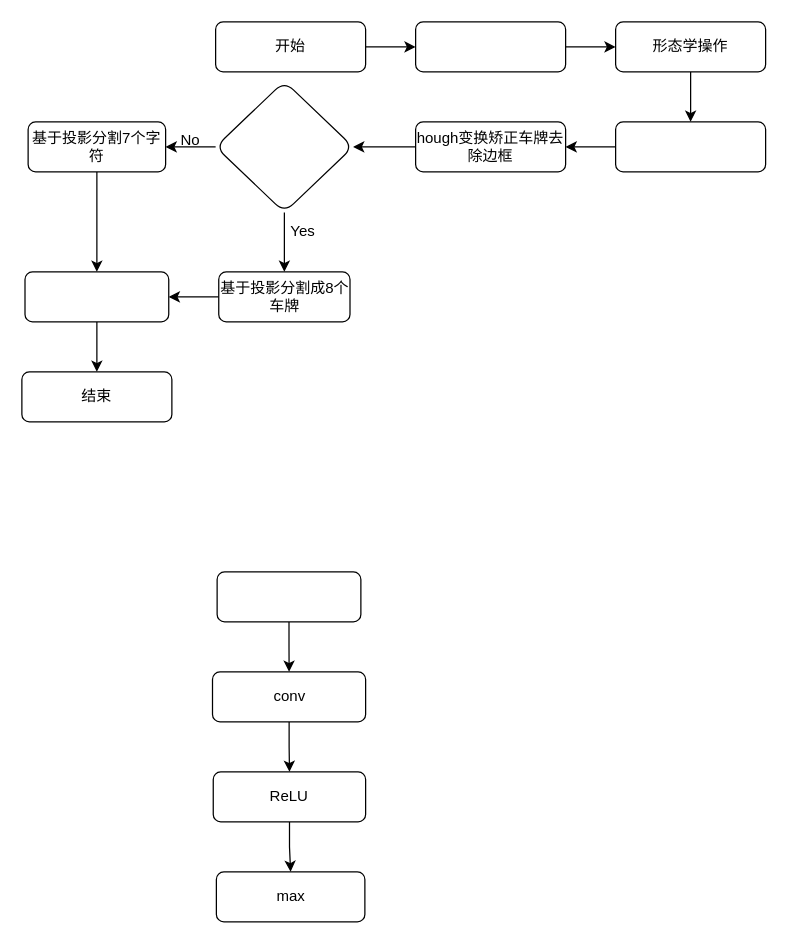
This 788x944 diagram has some shape labels left out. Each missing label, with the box of its shape:
使用CNN识别字符: (24, 271, 169, 322)
图像预处理: (414, 21, 566, 72)
截取车牌并分辨车牌类型: (614, 121, 766, 172)
是否为新能源车牌？: (214, 80, 353, 212)
输入图片（20x20）: (216, 571, 361, 622)
